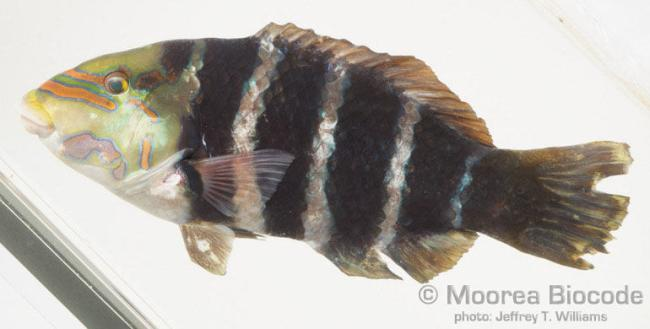fish: (19, 22, 634, 282)
